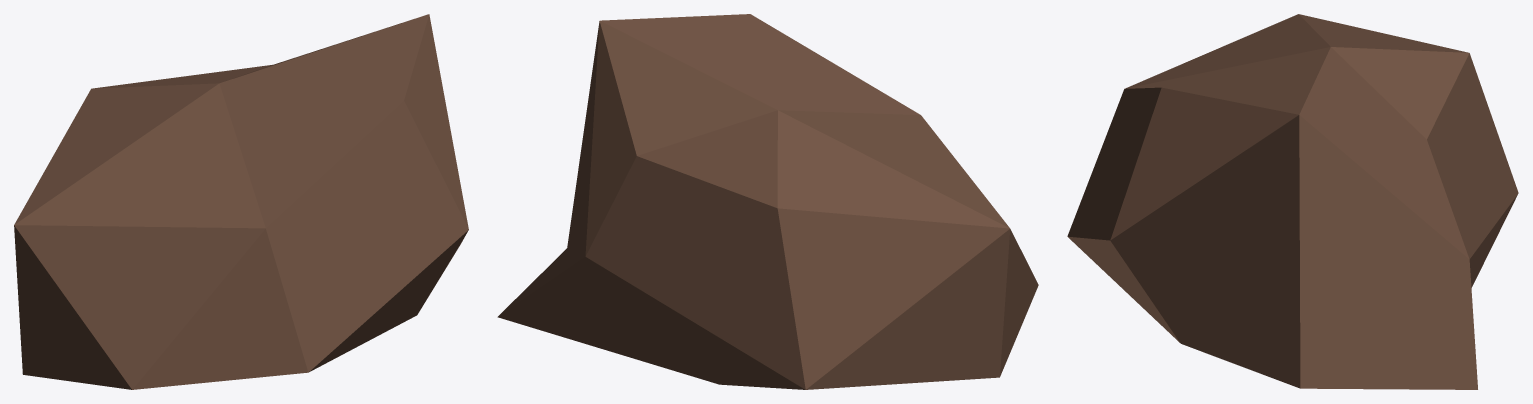
The model's file is small_rock4.glb.
3 views of the same model, side by side, from view 1: azimuth 30°, elevation 25°; view 2: azimuth 150°, elevation 25°; view 3: azimuth 270°, elevation 25° (orthographic). The views are drawn at different scales.
Parts seen in each view (by area): view 1: small_rock4; view 2: small_rock4; view 3: small_rock4.
Part boxes in pixels (box(x1,y1,x2,y2)): small_rock4: box(14, 14, 468, 389); small_rock4: box(497, 14, 1038, 389); small_rock4: box(1067, 14, 1518, 389).
Bounding box in the file's own units: 1.16 × 0.7377 × 0.9364.
